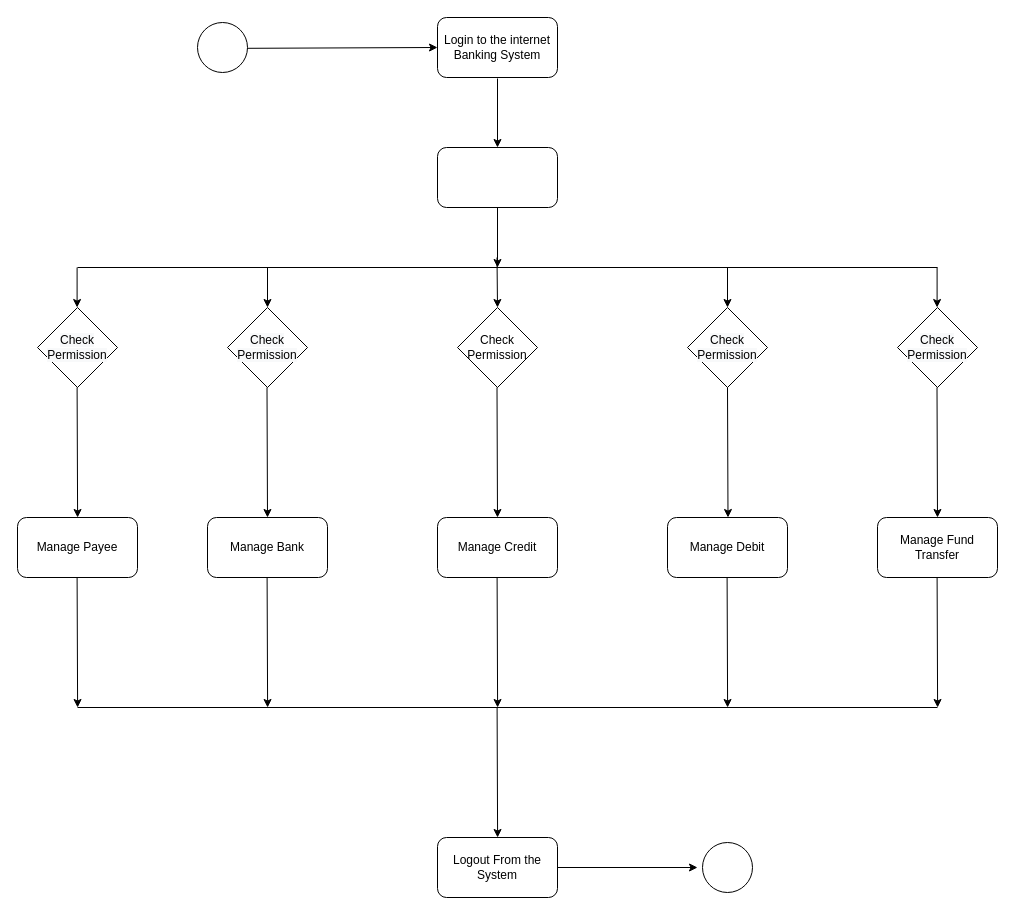
This 1015x915 diagram has some shape labels left out. Each missing label, with the centre of its shape:
"Check User Level and Permissions" goes at [497,177].
"End" goes at [727,867].
"Start" goes at [222,47].
